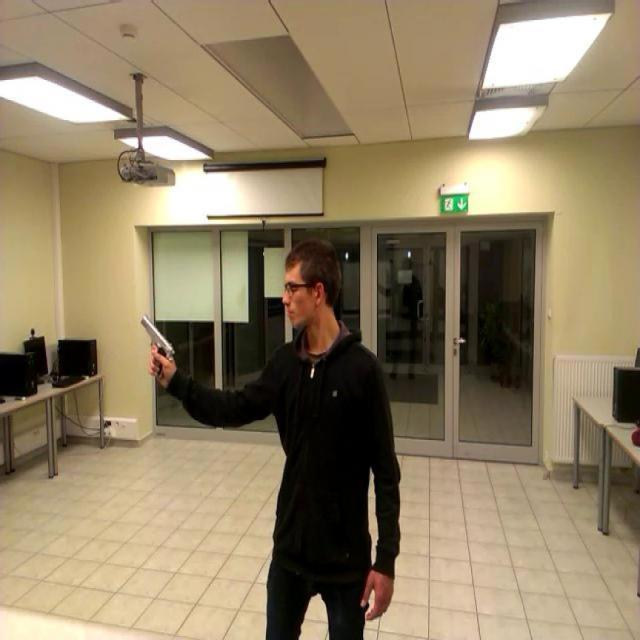pistol: (140, 313, 175, 379)
